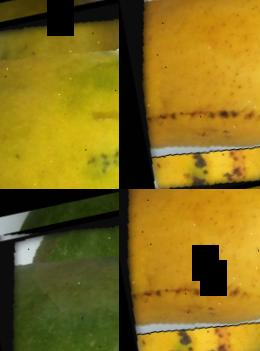PartiallyRipe: (0, 0, 119, 189)
Ripe: (119, 0, 260, 189), (119, 189, 260, 351)
Unripe: (0, 203, 119, 351)
